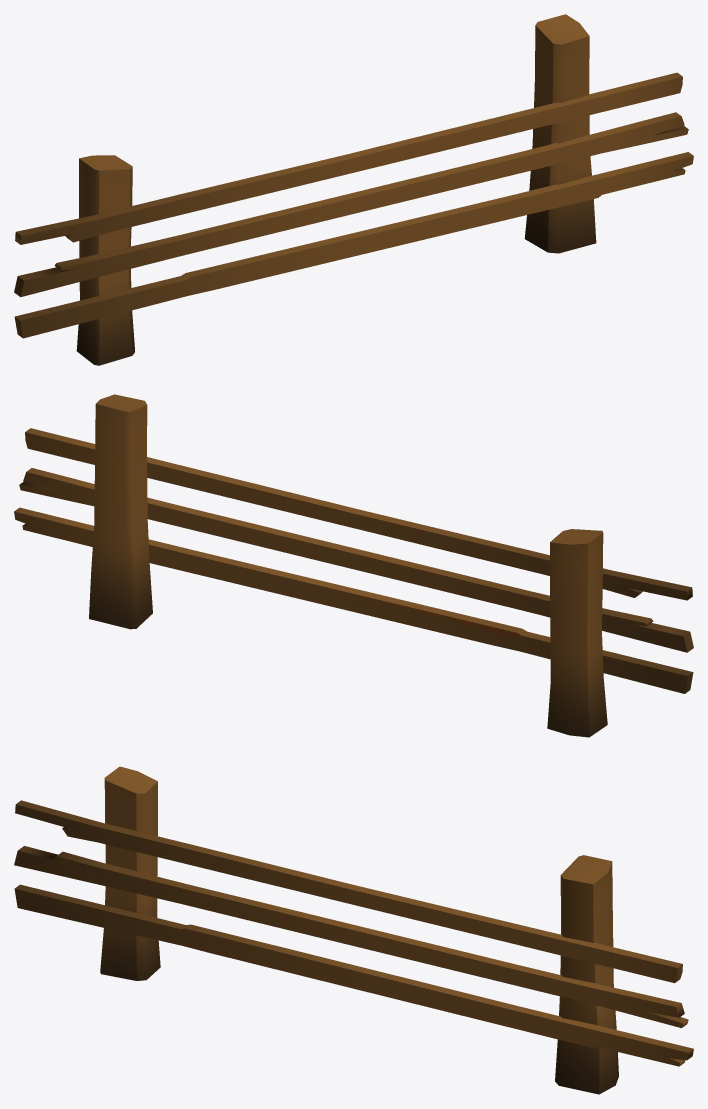
The model's file is RoadFenceWood_Lrg-01.FBX.
3 renders of one model, top to bottom at view 1: azimuth 30°, elevation 25°; view 2: azimuth 150°, elevation 25°; view 3: azimuth 330°, elevation 25°, orthographic.
Visible parts, largest first — view 1: RoadFenceWood_Lrg-01; view 2: RoadFenceWood_Lrg-01; view 3: RoadFenceWood_Lrg-01.
Part boxes in pixels (box(x1,y1,x2,y2)): RoadFenceWood_Lrg-01: box(14, 14, 693, 365); RoadFenceWood_Lrg-01: box(14, 394, 693, 737); RoadFenceWood_Lrg-01: box(14, 766, 693, 1094).
Bounding box in the file's own units: 460 × 141 × 33.67.
Materials: 1 (1 with a texture image).
